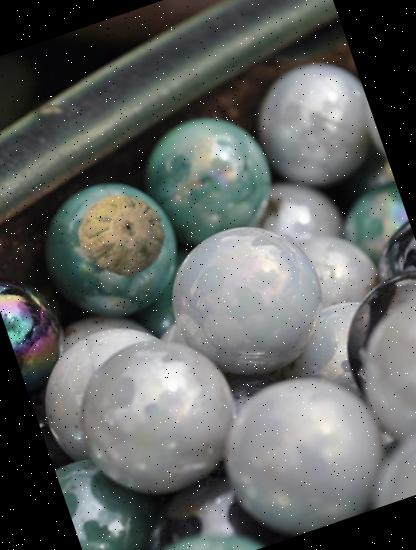Cantaloupe: (67, 178, 179, 290)
